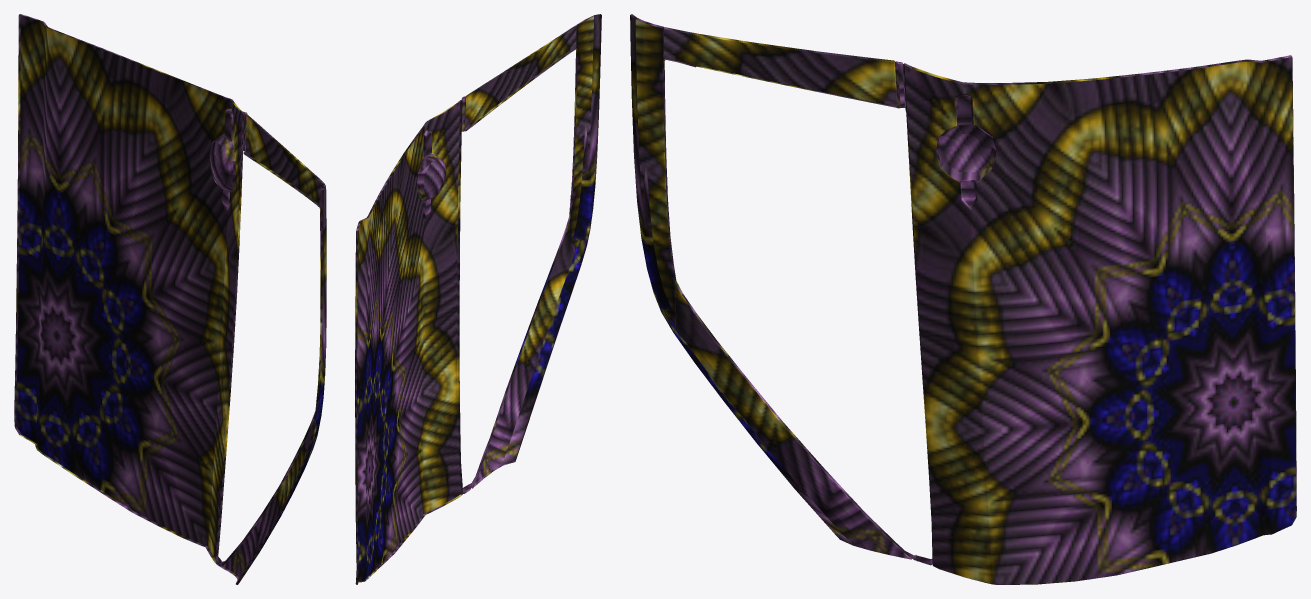
The model's file is door_lf.obj.
The picture shows the model from 3 angles, left to right: view 1: azimuth 30°, elevation 25°; view 2: azimuth 150°, elevation 25°; view 3: azimuth 270°, elevation 25°; orthographic projection. The views are drawn at different scales.
Visible parts, largest first — view 1: Door_Lf; view 2: Door_Lf; view 3: Door_Lf.
Part boxes in pixels (x1,y1,x2,y2): Door_Lf: [14, 14, 326, 584]; Door_Lf: [355, 14, 601, 584]; Door_Lf: [630, 14, 1296, 584].
Size of the model in its own units: 0.1373 by 0.9345 by 1.03.
1 material, 1 textured.
